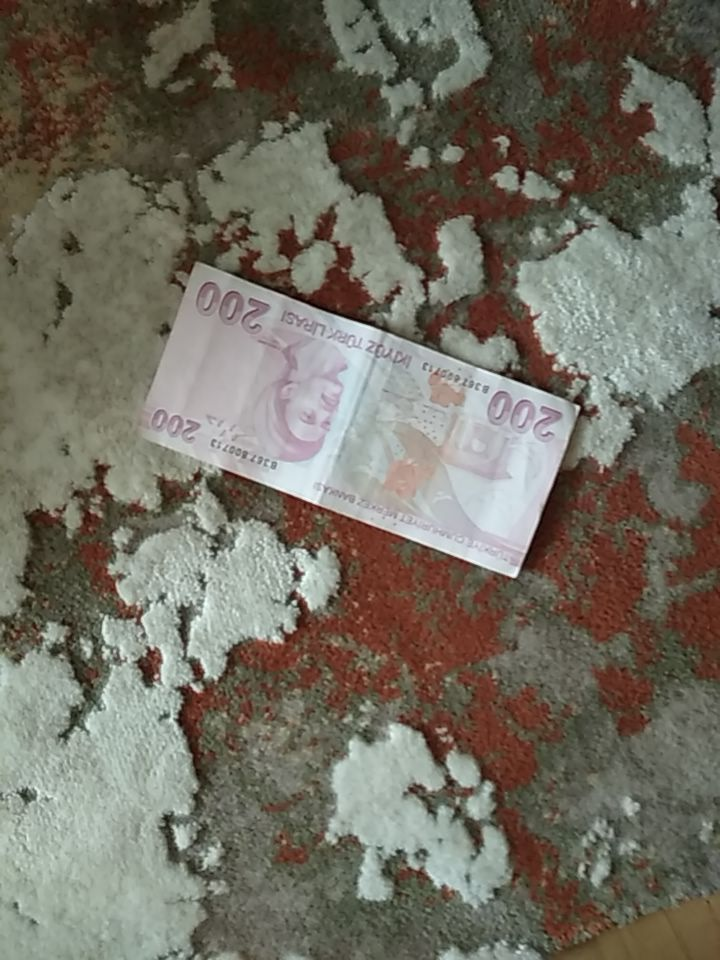200TL: (135, 261, 583, 580)
